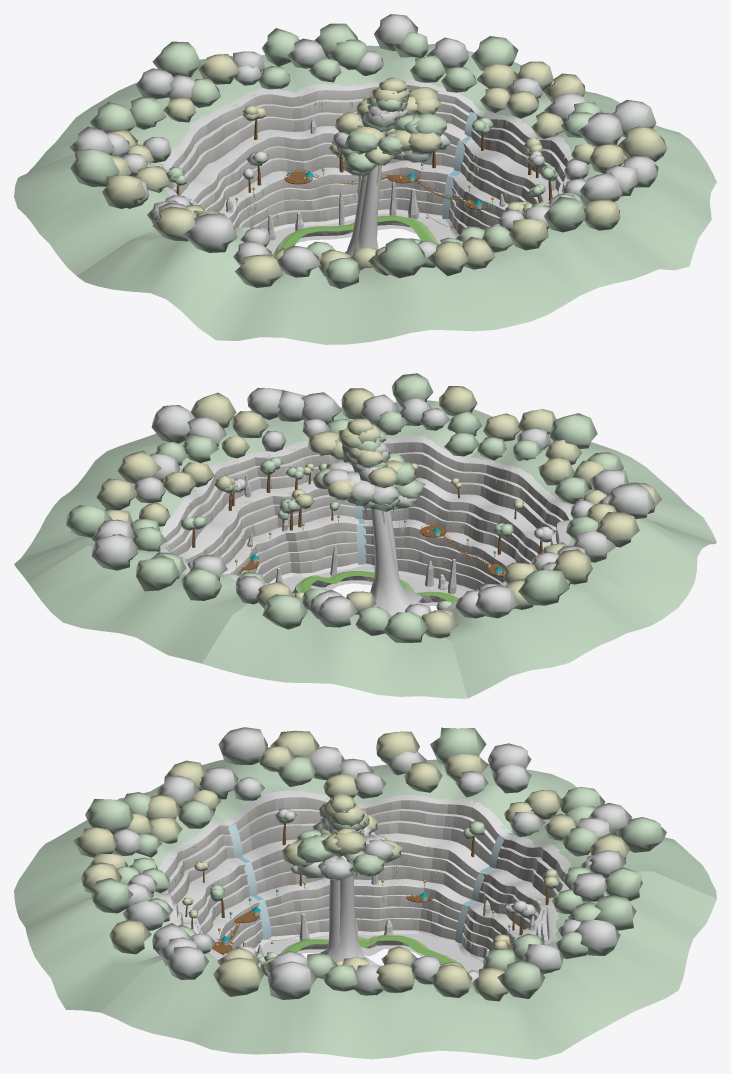
The model's file is grove.fbx.
The picture shows the model from 3 angles, top to bottom: view 1: azimuth 30°, elevation 25°; view 2: azimuth 150°, elevation 25°; view 3: azimuth 270°, elevation 25°; orthographic projection. The views are drawn at different scales.
Visible parts, largest first — view 1: GV_Far_6__leaf, GV_Far_5__leaf, GV_Far_7__leaf, GV_Far_4__leaf, GV_Far_8__leaf, GV_Far_3__leaf, GV_Far_2__leaf, GV_Far_1__leaf, GV_Tier3__stone, GV_Tier1__stone, GV_Tier2__stone, GV_Tier3__moss (+13 smaller); view 2: GV_Far_3__leaf, GV_Far_2__leaf, GV_Far_4__leaf, GV_Far_5__leaf, GV_Far_1__leaf, GV_Far_8__leaf, GV_Far_6__leaf, GV_Tier3__stone, GV_Far_7__leaf, GV_Tier1__stone, GV_Tier2__stone, GV_Tier3__moss (+12 smaller); view 3: GV_Far_1__leaf, GV_Far_8__leaf, GV_Far_2__leaf, GV_Far_7__leaf, GV_Far_4__leaf, GV_Far_6__leaf, GV_Tier3__stone, GV_Far_5__leaf, GV_Far_3__leaf, GV_Tier1__stone, GV_Tier2__stone, GV_Tier3__moss (+13 smaller).
Boxes of the visible parts, bbox=[...] form: GV_Far_6__leaf: bbox=[283, 237, 530, 344]; GV_Far_5__leaf: bbox=[77, 202, 320, 340]; GV_Far_7__leaf: bbox=[455, 172, 698, 321]; GV_Far_4__leaf: bbox=[14, 126, 192, 275]; GV_Far_8__leaf: bbox=[556, 100, 716, 237]; GV_Far_3__leaf: bbox=[27, 41, 261, 173]; GV_Far_2__leaf: bbox=[230, 14, 445, 92]; GV_Far_1__leaf: bbox=[426, 36, 660, 138]; GV_Tier3__stone: bbox=[161, 85, 567, 194]; GV_Tier1__stone: bbox=[228, 167, 504, 234]; GV_Tier2__stone: bbox=[192, 131, 542, 211]; GV_Tier3__moss: bbox=[150, 78, 572, 256]; GV_Far_3__leaf: bbox=[202, 581, 467, 698]; GV_Far_2__leaf: bbox=[28, 527, 266, 663]; GV_Far_4__leaf: bbox=[430, 545, 664, 698]; GV_Far_5__leaf: bbox=[542, 470, 716, 617]; GV_Far_1__leaf: bbox=[14, 450, 214, 582]; GV_Far_8__leaf: bbox=[87, 387, 330, 472]; GV_Far_6__leaf: bbox=[471, 409, 691, 508]; GV_Tier3__stone: bbox=[163, 442, 569, 555]; GV_Far_7__leaf: bbox=[301, 373, 492, 457]; GV_Tier1__stone: bbox=[229, 522, 505, 590]; GV_Tier2__stone: bbox=[183, 487, 542, 564]; GV_Tier3__moss: bbox=[160, 435, 573, 610]; GV_Far_1__leaf: bbox=[342, 944, 616, 1059]; GV_Far_8__leaf: bbox=[101, 933, 357, 1057]; GV_Far_2__leaf: bbox=[509, 850, 716, 1020]; GV_Far_7__leaf: bbox=[17, 862, 196, 1012]; GV_Far_4__leaf: bbox=[336, 727, 576, 831]; GV_Far_6__leaf: bbox=[14, 792, 214, 910]; GV_Tier3__stone: bbox=[164, 797, 565, 942]; GV_Far_5__leaf: bbox=[117, 727, 358, 826]; GV_Far_3__leaf: bbox=[507, 787, 716, 898]; GV_Tier1__stone: bbox=[218, 885, 515, 958]; GV_Tier2__stone: bbox=[192, 841, 540, 934]; GV_Tier3__moss: bbox=[158, 790, 571, 984].
Size of the model in its own units: 94097 by 30541 by 93773.
